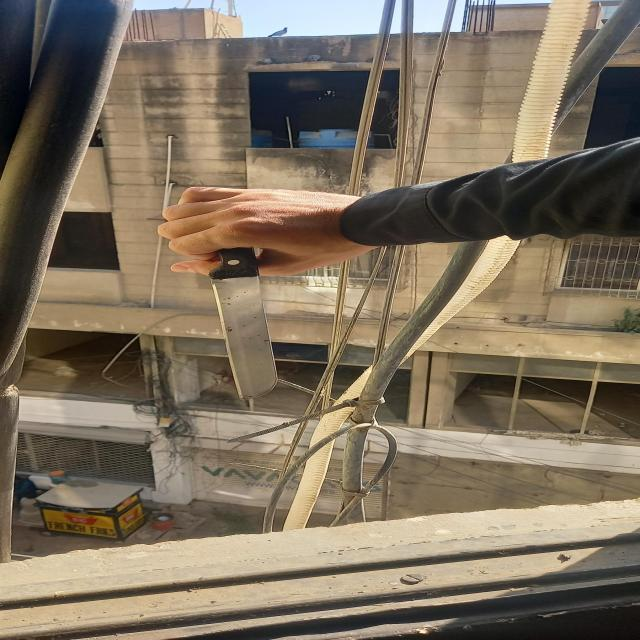knife: (209, 247, 279, 400)
